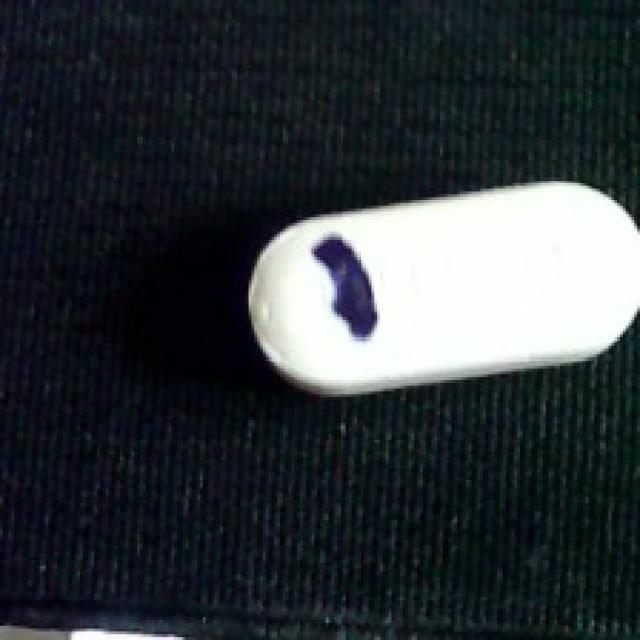defected: (240, 182, 640, 396)
